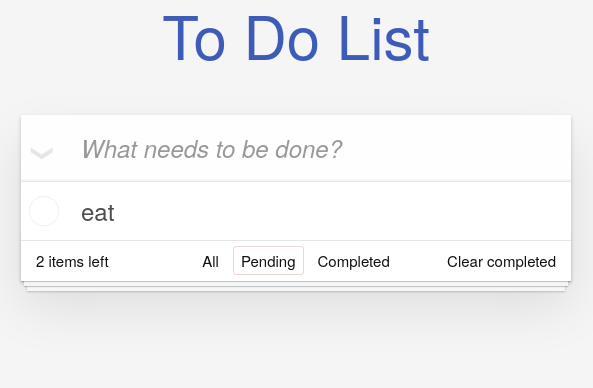
it: Data filtering › Click on the "Completed" link, all completed tasks should be displayed and the "Completed" link should be highlighted
Click the link with test id "link-completed" at (354, 261), box [318, 250, 390, 271]
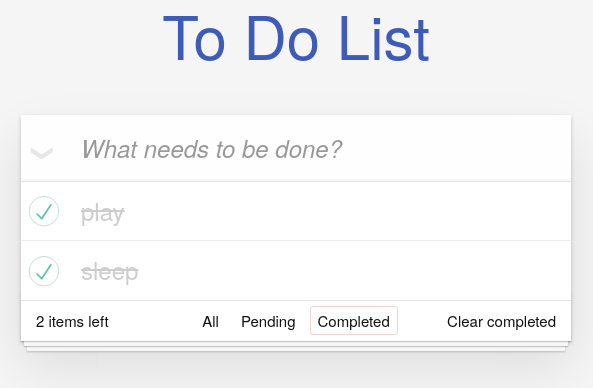
Check: the number of list items with test id "todo-item" is 2, box [21, 182, 571, 241]; [21, 241, 571, 300]
